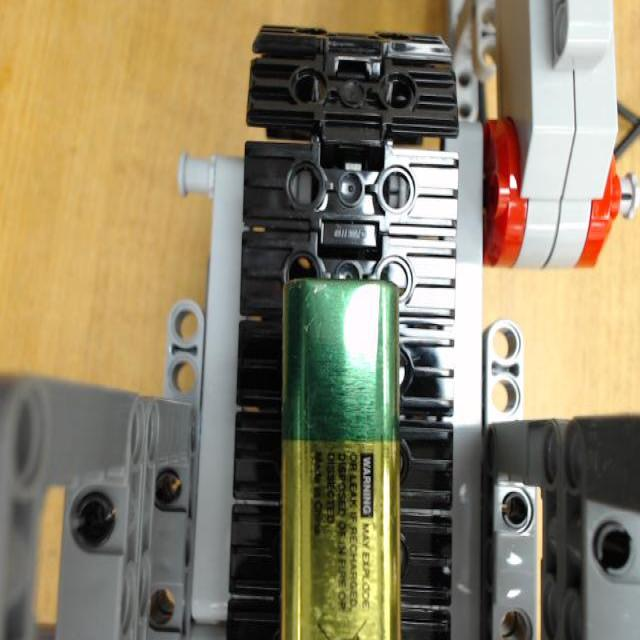9V: (276, 273, 405, 640)
